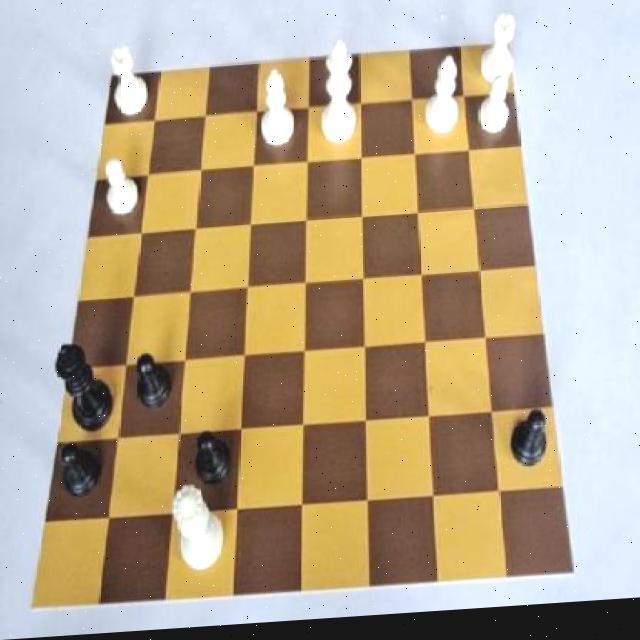black-bishop: (49, 337, 119, 445)
black-knight: (503, 408, 555, 488), (50, 439, 106, 511), (130, 341, 178, 419), (188, 424, 235, 491)
black-rook: (423, 55, 468, 158), (262, 70, 302, 166)
white-bishop: (317, 39, 363, 155)
white-knight: (97, 152, 143, 227), (478, 76, 518, 150)
white-pawn: (168, 476, 232, 587)
white-queen: (474, 11, 523, 96), (106, 46, 151, 125)
